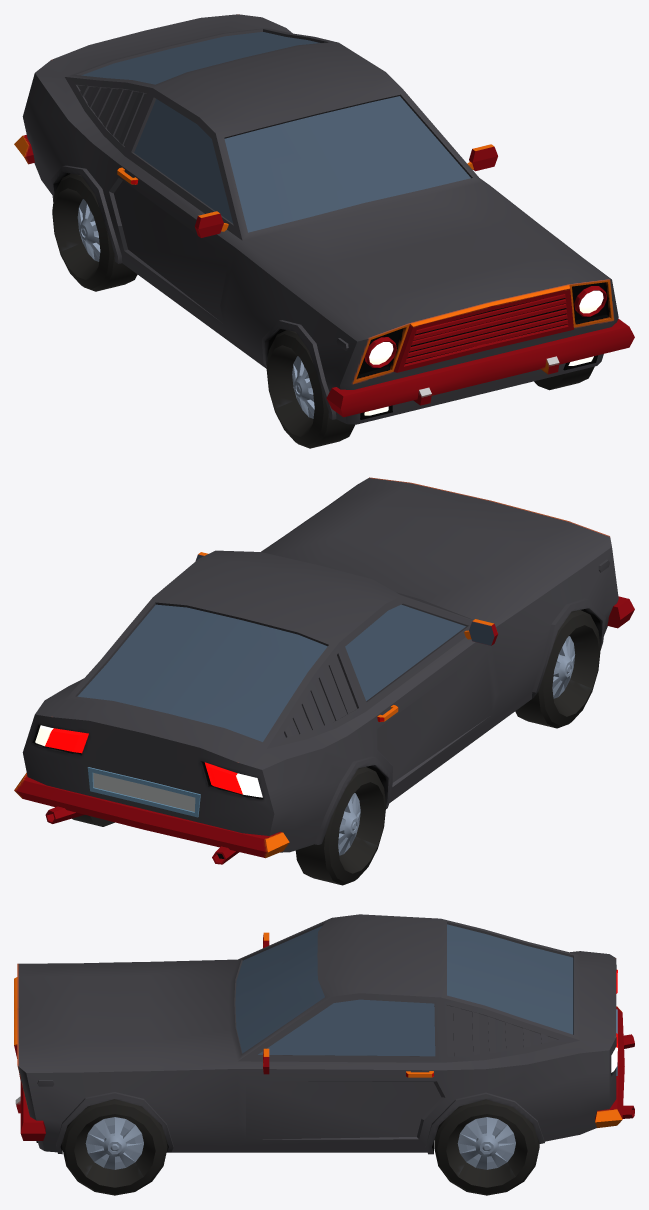
Rendered from NightcrawlerwithTyres.fbx.
3 renders of one model, top to bottom at view 1: azimuth 30°, elevation 25°; view 2: azimuth 150°, elevation 25°; view 3: azimuth 270°, elevation 25°, orthographic. The views are drawn at different scales.
Visible parts, largest first — view 1: Nightcrawler, Nightcrawler-wheelFR, Nightcrawler-wheelBR, Nightcrawler-wheelFL; view 2: Nightcrawler, Nightcrawler-wheelBR, Nightcrawler-wheelFR; view 3: Nightcrawler, Nightcrawler-wheelFL, Nightcrawler-wheelBL.
Boxes of the visible parts, x1,y1,x2,y2 form: Nightcrawler: (14, 14, 634, 424); Nightcrawler-wheelFR: (266, 330, 354, 448); Nightcrawler-wheelBR: (52, 173, 137, 291); Nightcrawler-wheelFL: (534, 366, 594, 390); Nightcrawler: (14, 477, 634, 864); Nightcrawler-wheelBR: (295, 767, 386, 885); Nightcrawler-wheelFR: (515, 610, 600, 728); Nightcrawler: (14, 914, 634, 1154); Nightcrawler-wheelFL: (62, 1099, 167, 1195); Nightcrawler-wheelBL: (434, 1099, 539, 1195).
Bounding box in the file's own units: 218 × 153 × 451.
